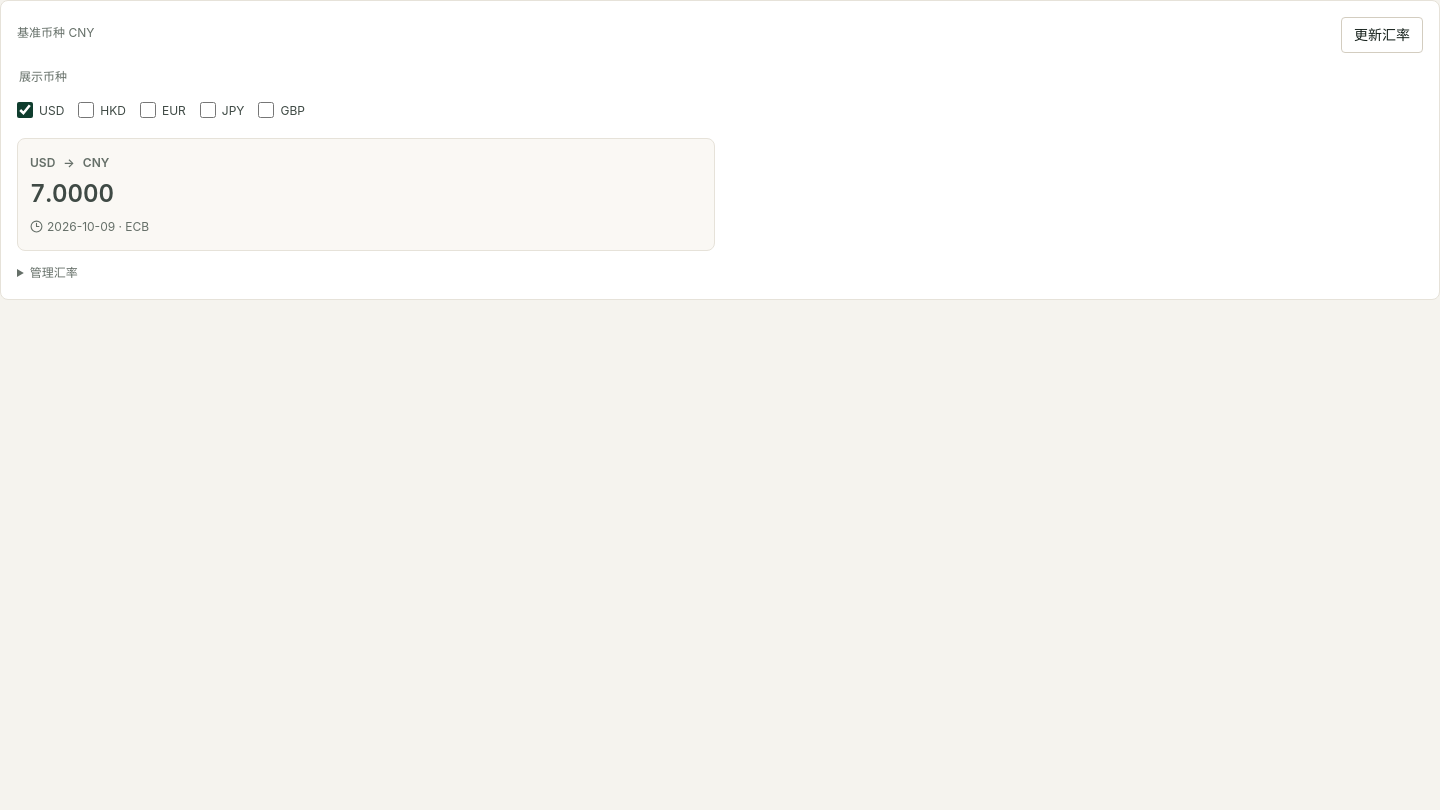
Test: rejects empty or nonpositive overrides and retains the draft after a failed save
The width and height of the screenshot is (1440, 810).
Check: the text named "1 USD = 7.0000 CNY" is shown, box x1=30 y1=179 x2=114 y2=208
Click the heading "管理汇率": (54, 273) x1=30 y1=265 x2=78 y2=280
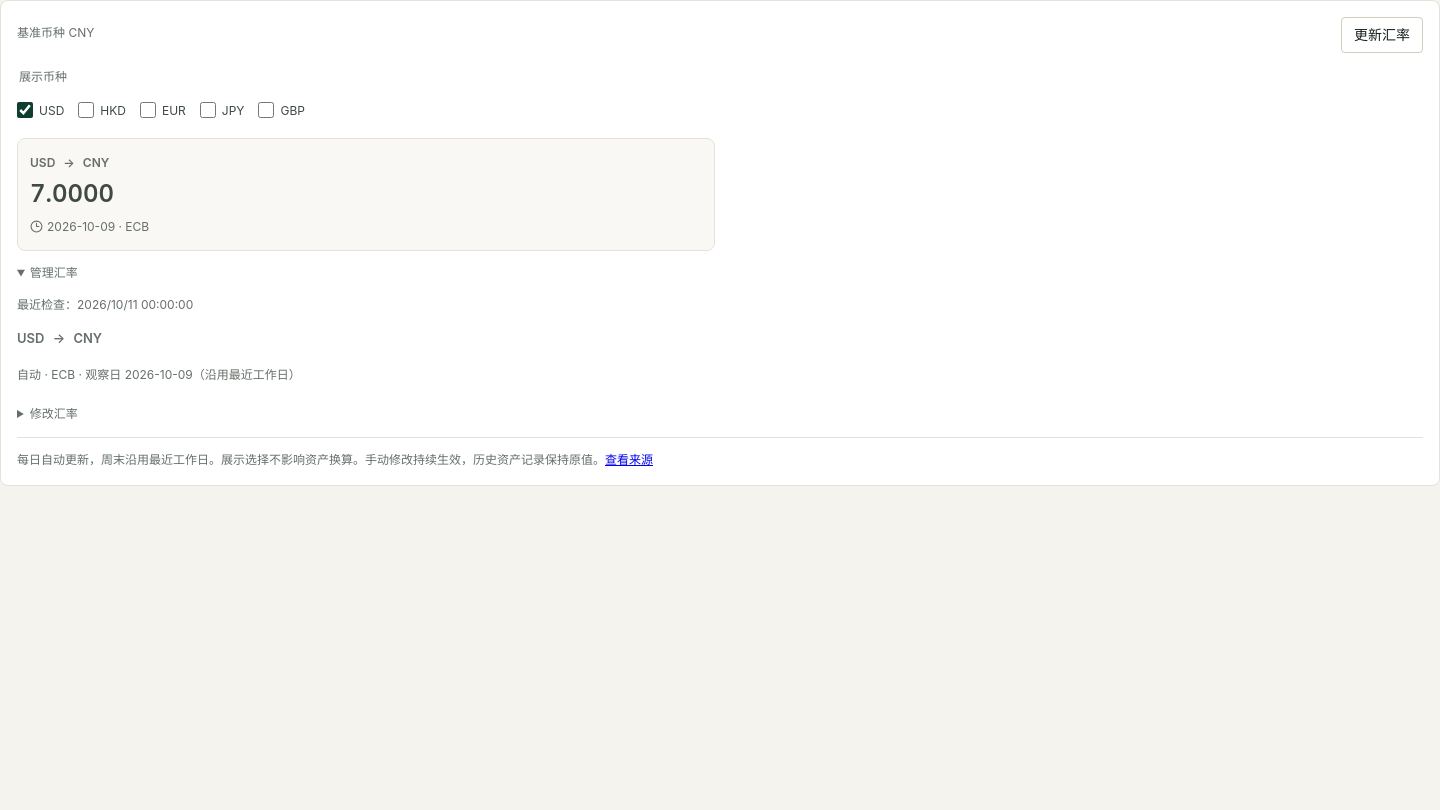
Click the heading "修改汇率": (54, 413) x1=30 y1=406 x2=78 y2=421
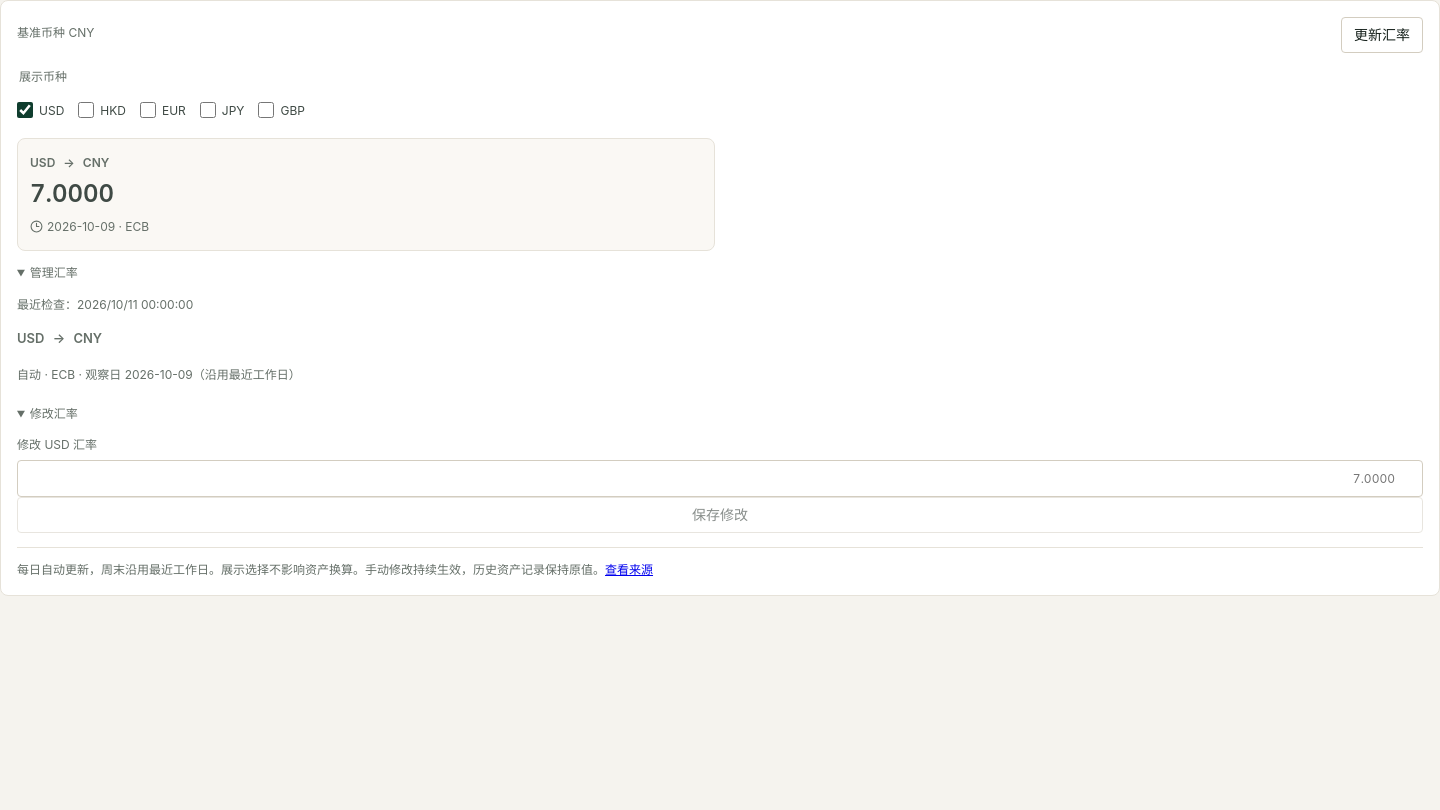
In the number field labelled "修改 USD 汇率": (720, 479) x1=17 y1=460 x2=1423 y2=497, type "0"
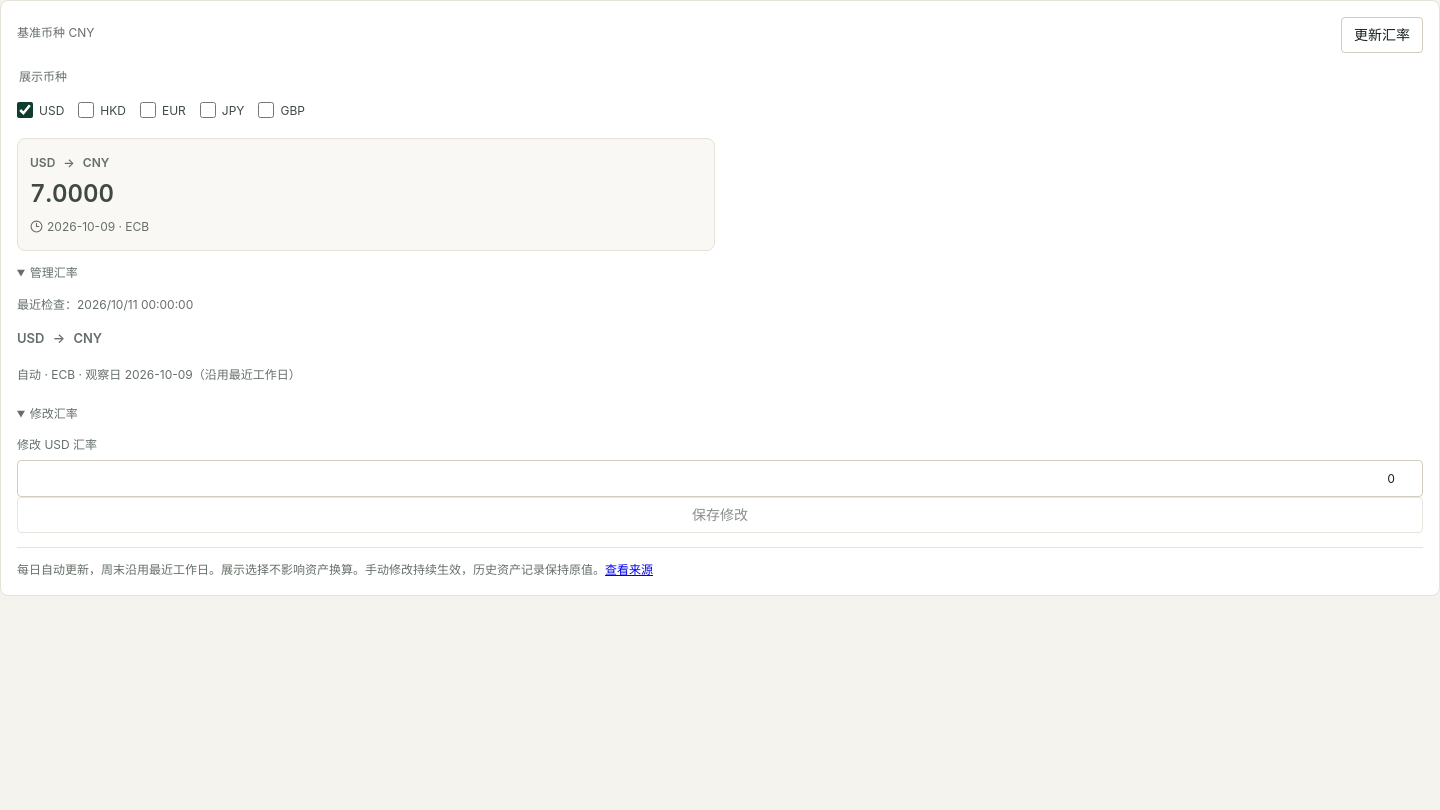
Check: the button "保存修改" is disabled, box x1=17 y1=497 x2=1423 y2=533
Replace the text in the number field labelled "修改 USD 汇率" with "8.2": (720, 479) x1=17 y1=460 x2=1423 y2=497
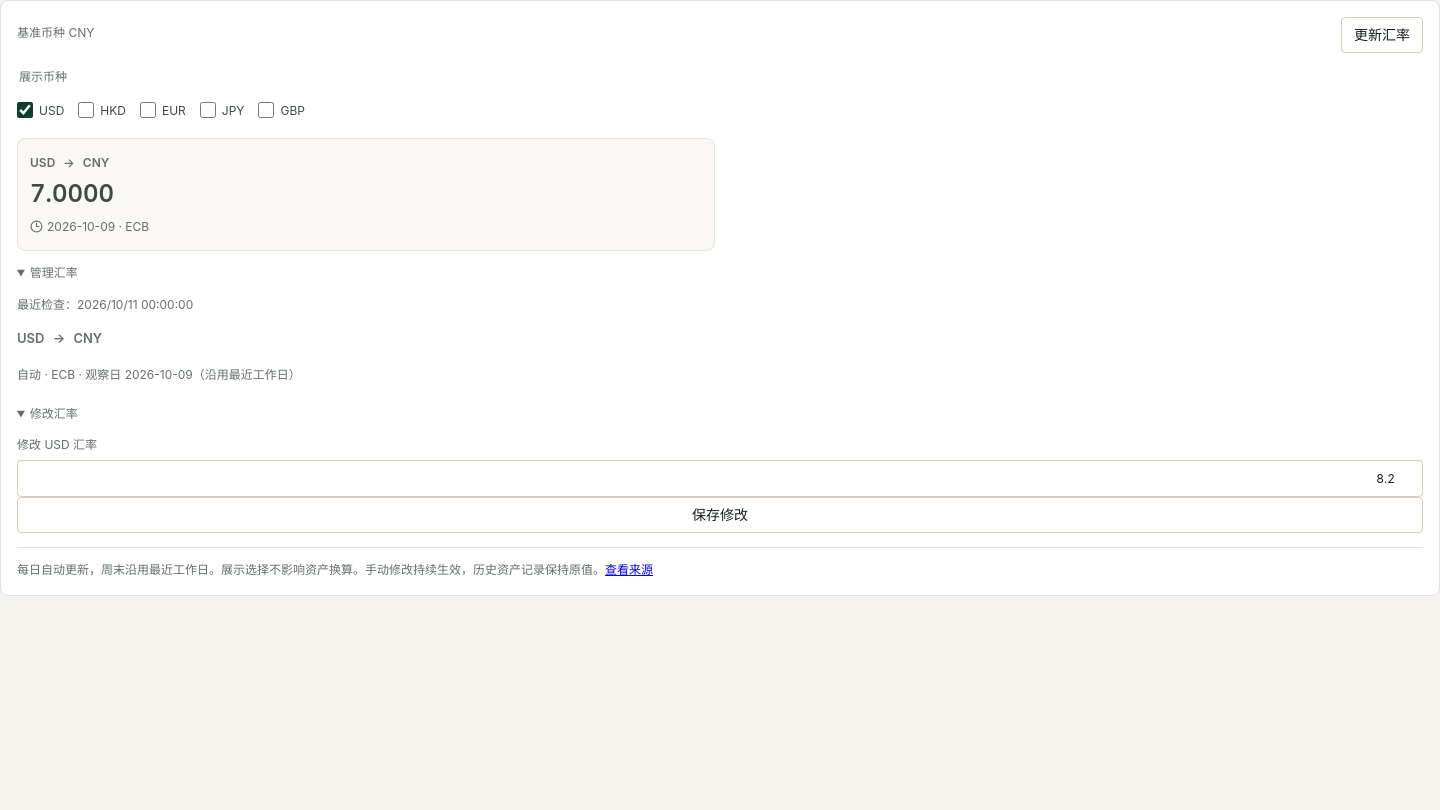
Click the button "保存修改": (720, 515) x1=17 y1=497 x2=1423 y2=533
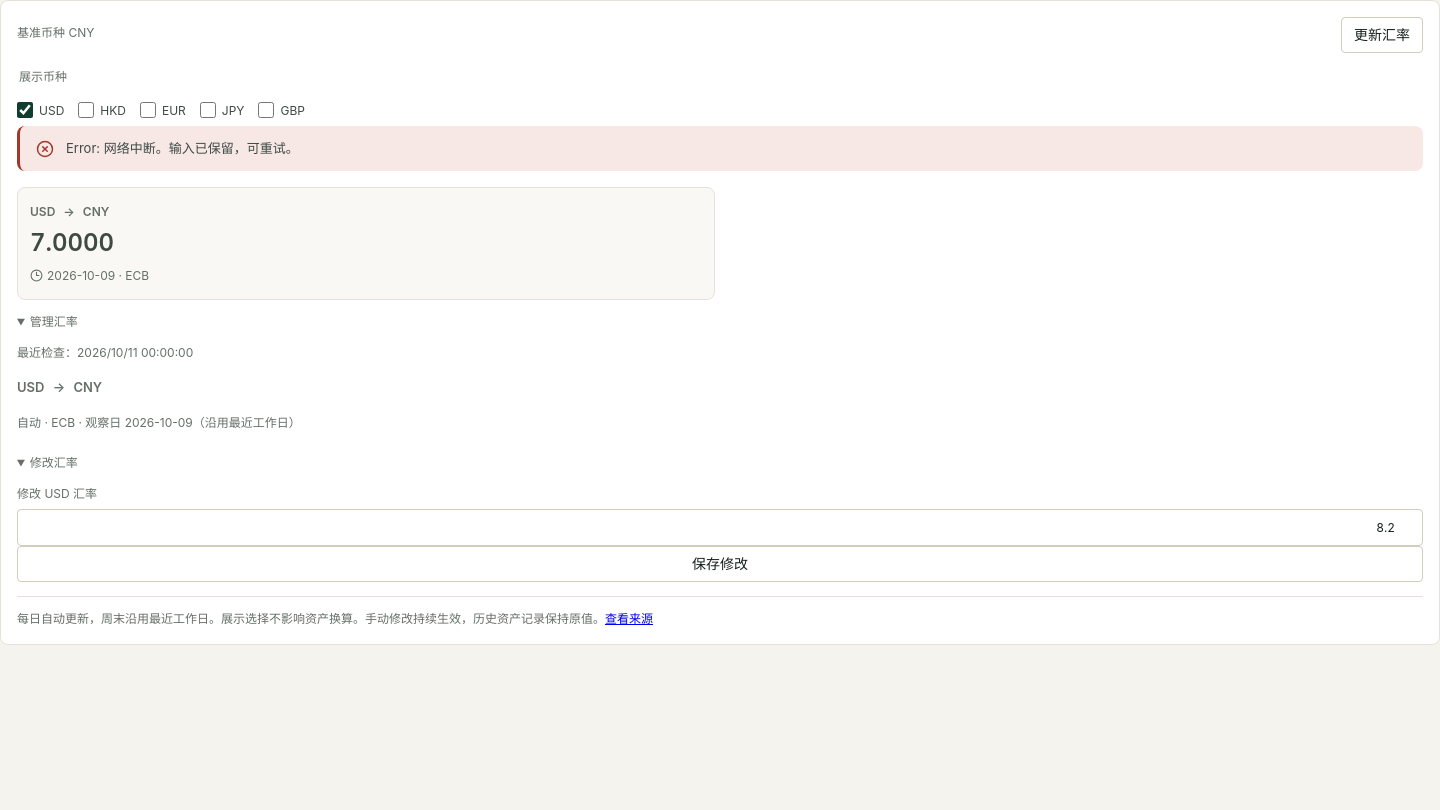
Check: the message shows "网络中断", box x1=66 y1=140 x2=156 y2=156
